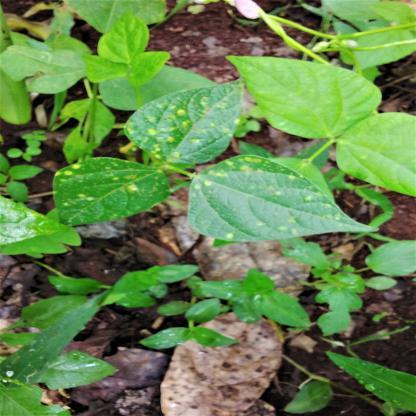Beans_Rust: (190, 155, 336, 243), (47, 154, 169, 229), (125, 82, 243, 158)
